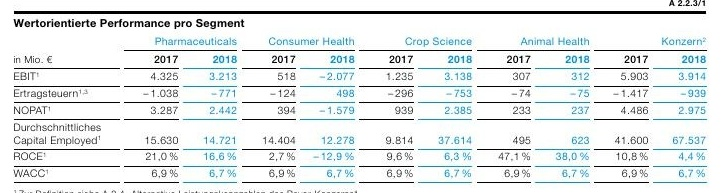table: (0, 0, 727, 193)
